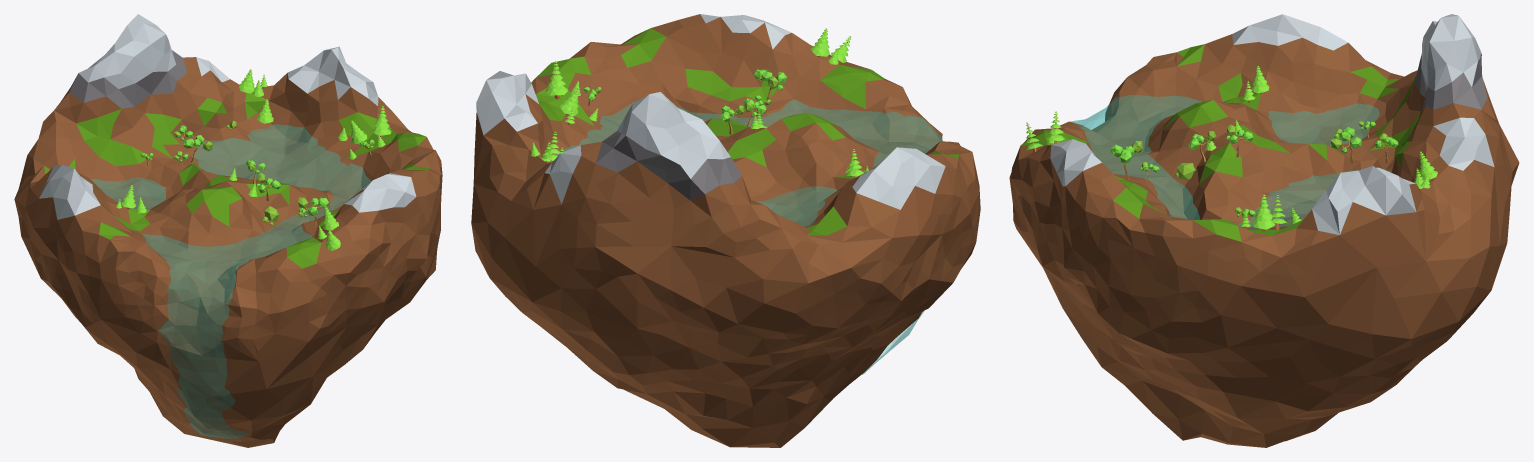
File: ground.glb
3 views of the same model, side by side, from view 1: azimuth 30°, elevation 25°; view 2: azimuth 150°, elevation 25°; view 3: azimuth 270°, elevation 25° (orthographic). The views are drawn at different scales.
Visible parts, largest first — view 1: Icosphere_2, Plane_3; view 2: Icosphere_2, Plane_3; view 3: Icosphere_2, Plane_3.
Boxes of the visible parts, box(x1,y1,x2,y2) form: Icosphere_2: box(14, 14, 442, 447); Plane_3: box(91, 124, 370, 438); Icosphere_2: box(471, 14, 980, 447); Plane_3: box(556, 100, 942, 374); Icosphere_2: box(1009, 14, 1519, 447); Plane_3: box(1070, 95, 1390, 229).
Size of the model in its own units: 47.08 by 43.65 by 47.84.
